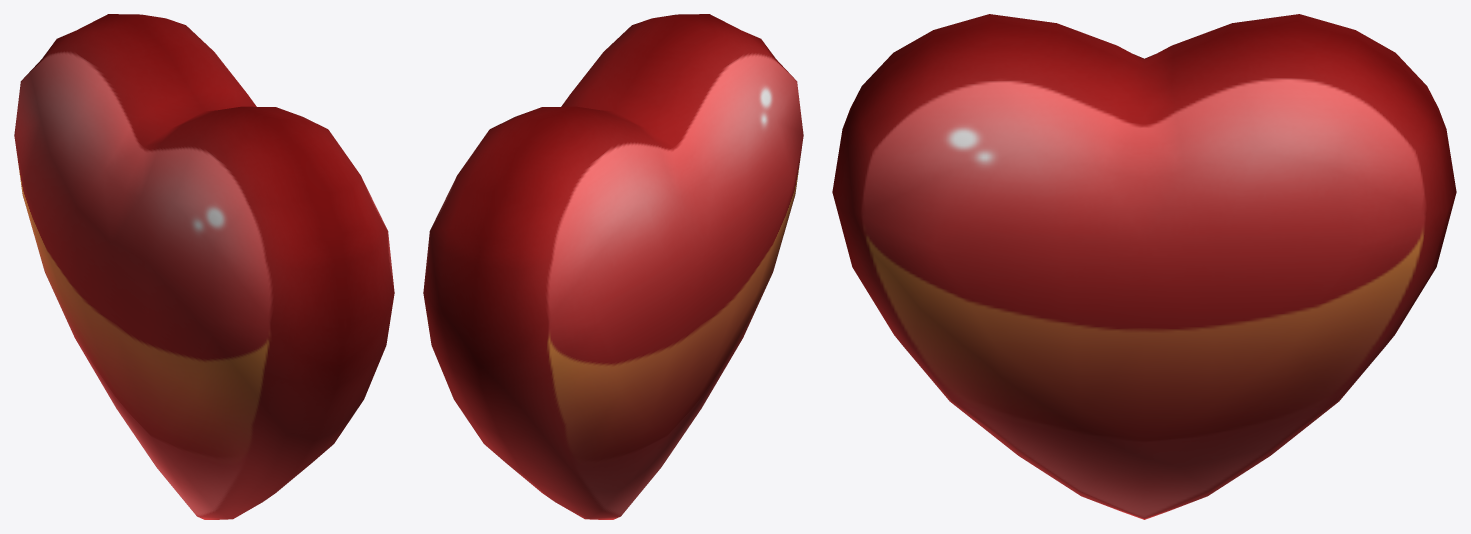
The model's file is heart01.FBX.
3 renders of one model, left to right at view 1: azimuth 30°, elevation 25°; view 2: azimuth 150°, elevation 25°; view 3: azimuth 270°, elevation 25°, orthographic. The views are drawn at different scales.
Visible parts, largest first — view 1: heart01; view 2: heart01; view 3: heart01.
Part boxes in pixels (<box>): heart01: <box>14,14,394,519</box>; heart01: <box>423,14,803,519</box>; heart01: <box>832,14,1456,519</box>.
Bounding box in the file's own units: 86.81 × 197 × 225.
1 material, 1 textured.
